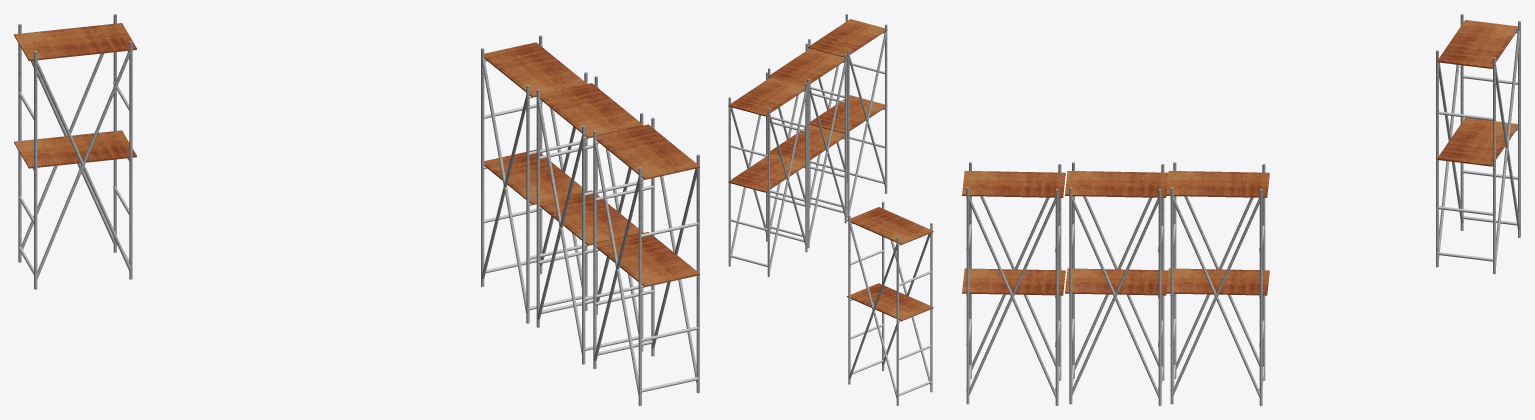
File: Andamios.obj
The picture shows the model from 3 angles, left to right: view 1: azimuth 30°, elevation 25°; view 2: azimuth 150°, elevation 25°; view 3: azimuth 270°, elevation 25°; orthographic projection. The views are drawn at different scales.
Visible parts, largest first — view 1: Andamios; view 2: Andamios; view 3: Andamios.
Boxes of the visible parts, bbox=[...] form: Andamios: bbox=[14, 14, 699, 405]; Andamios: bbox=[728, 14, 933, 405]; Andamios: bbox=[962, 14, 1520, 405].
Size of the model in its own units: 7071 by 4000 by 9389.
12 materials, 12 textured.
